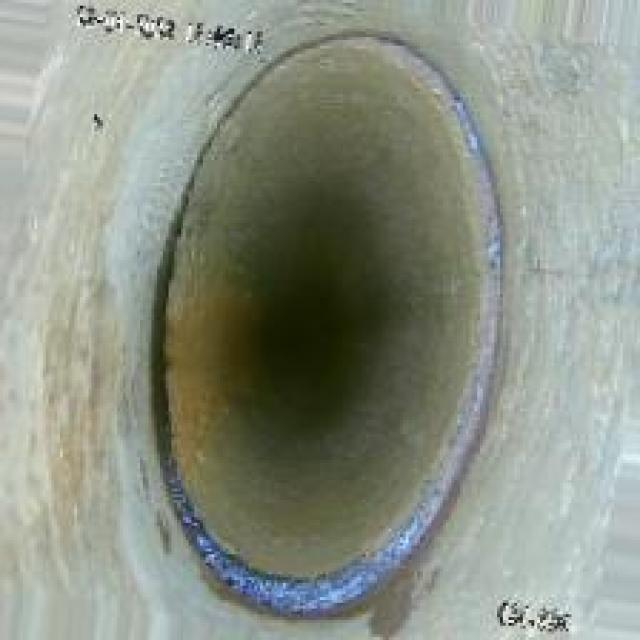joint: (143, 29, 500, 628)
